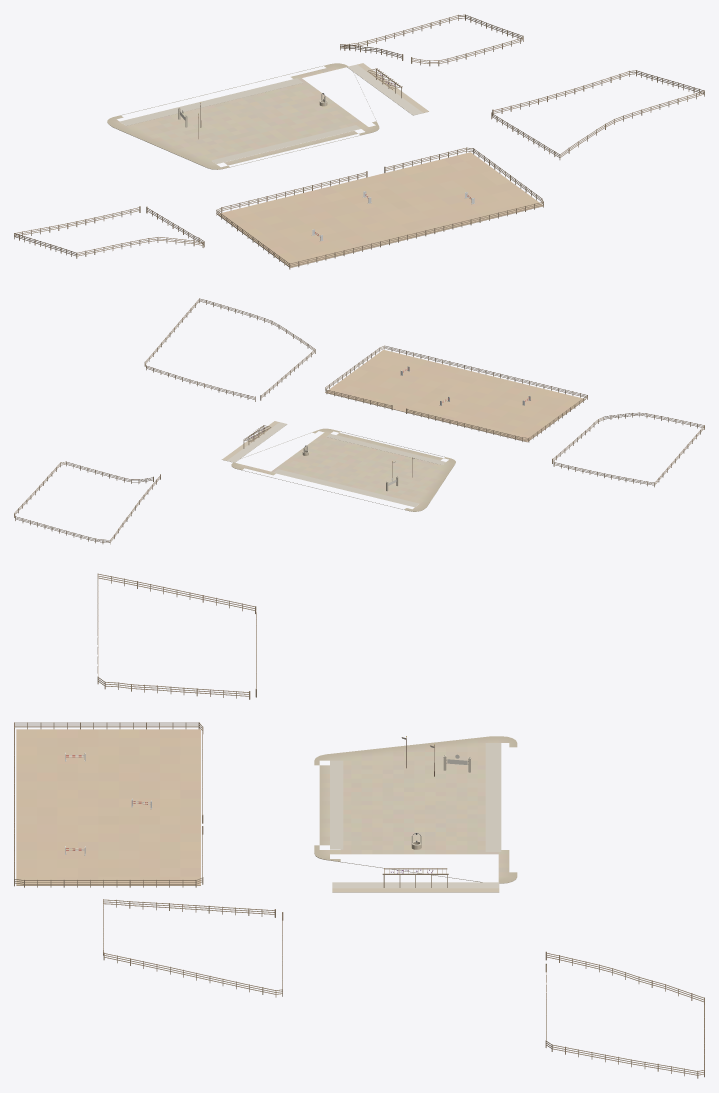
File: SM_BM_BE_0_Grounds.glb
3 renders of one model, top to bottom at view 1: azimuth 30°, elevation 25°; view 2: azimuth 150°, elevation 25°; view 3: azimuth 270°, elevation 25°, orthographic. The views are drawn at different scales.
Parts seen in each view (by area): view 1: SM_BM_BE_0_Grounds; view 2: SM_BM_BE_0_Grounds; view 3: SM_BM_BE_0_Grounds.
Boxes of the visible parts, left/top/right/bottom form: SM_BM_BE_0_Grounds: left=14, top=14, right=704, bottom=269; SM_BM_BE_0_Grounds: left=14, top=298, right=704, bottom=544; SM_BM_BE_0_Grounds: left=14, top=573, right=704, bottom=1078.
Bounding box in the file's own units: 174 × 27.96 × 131.
